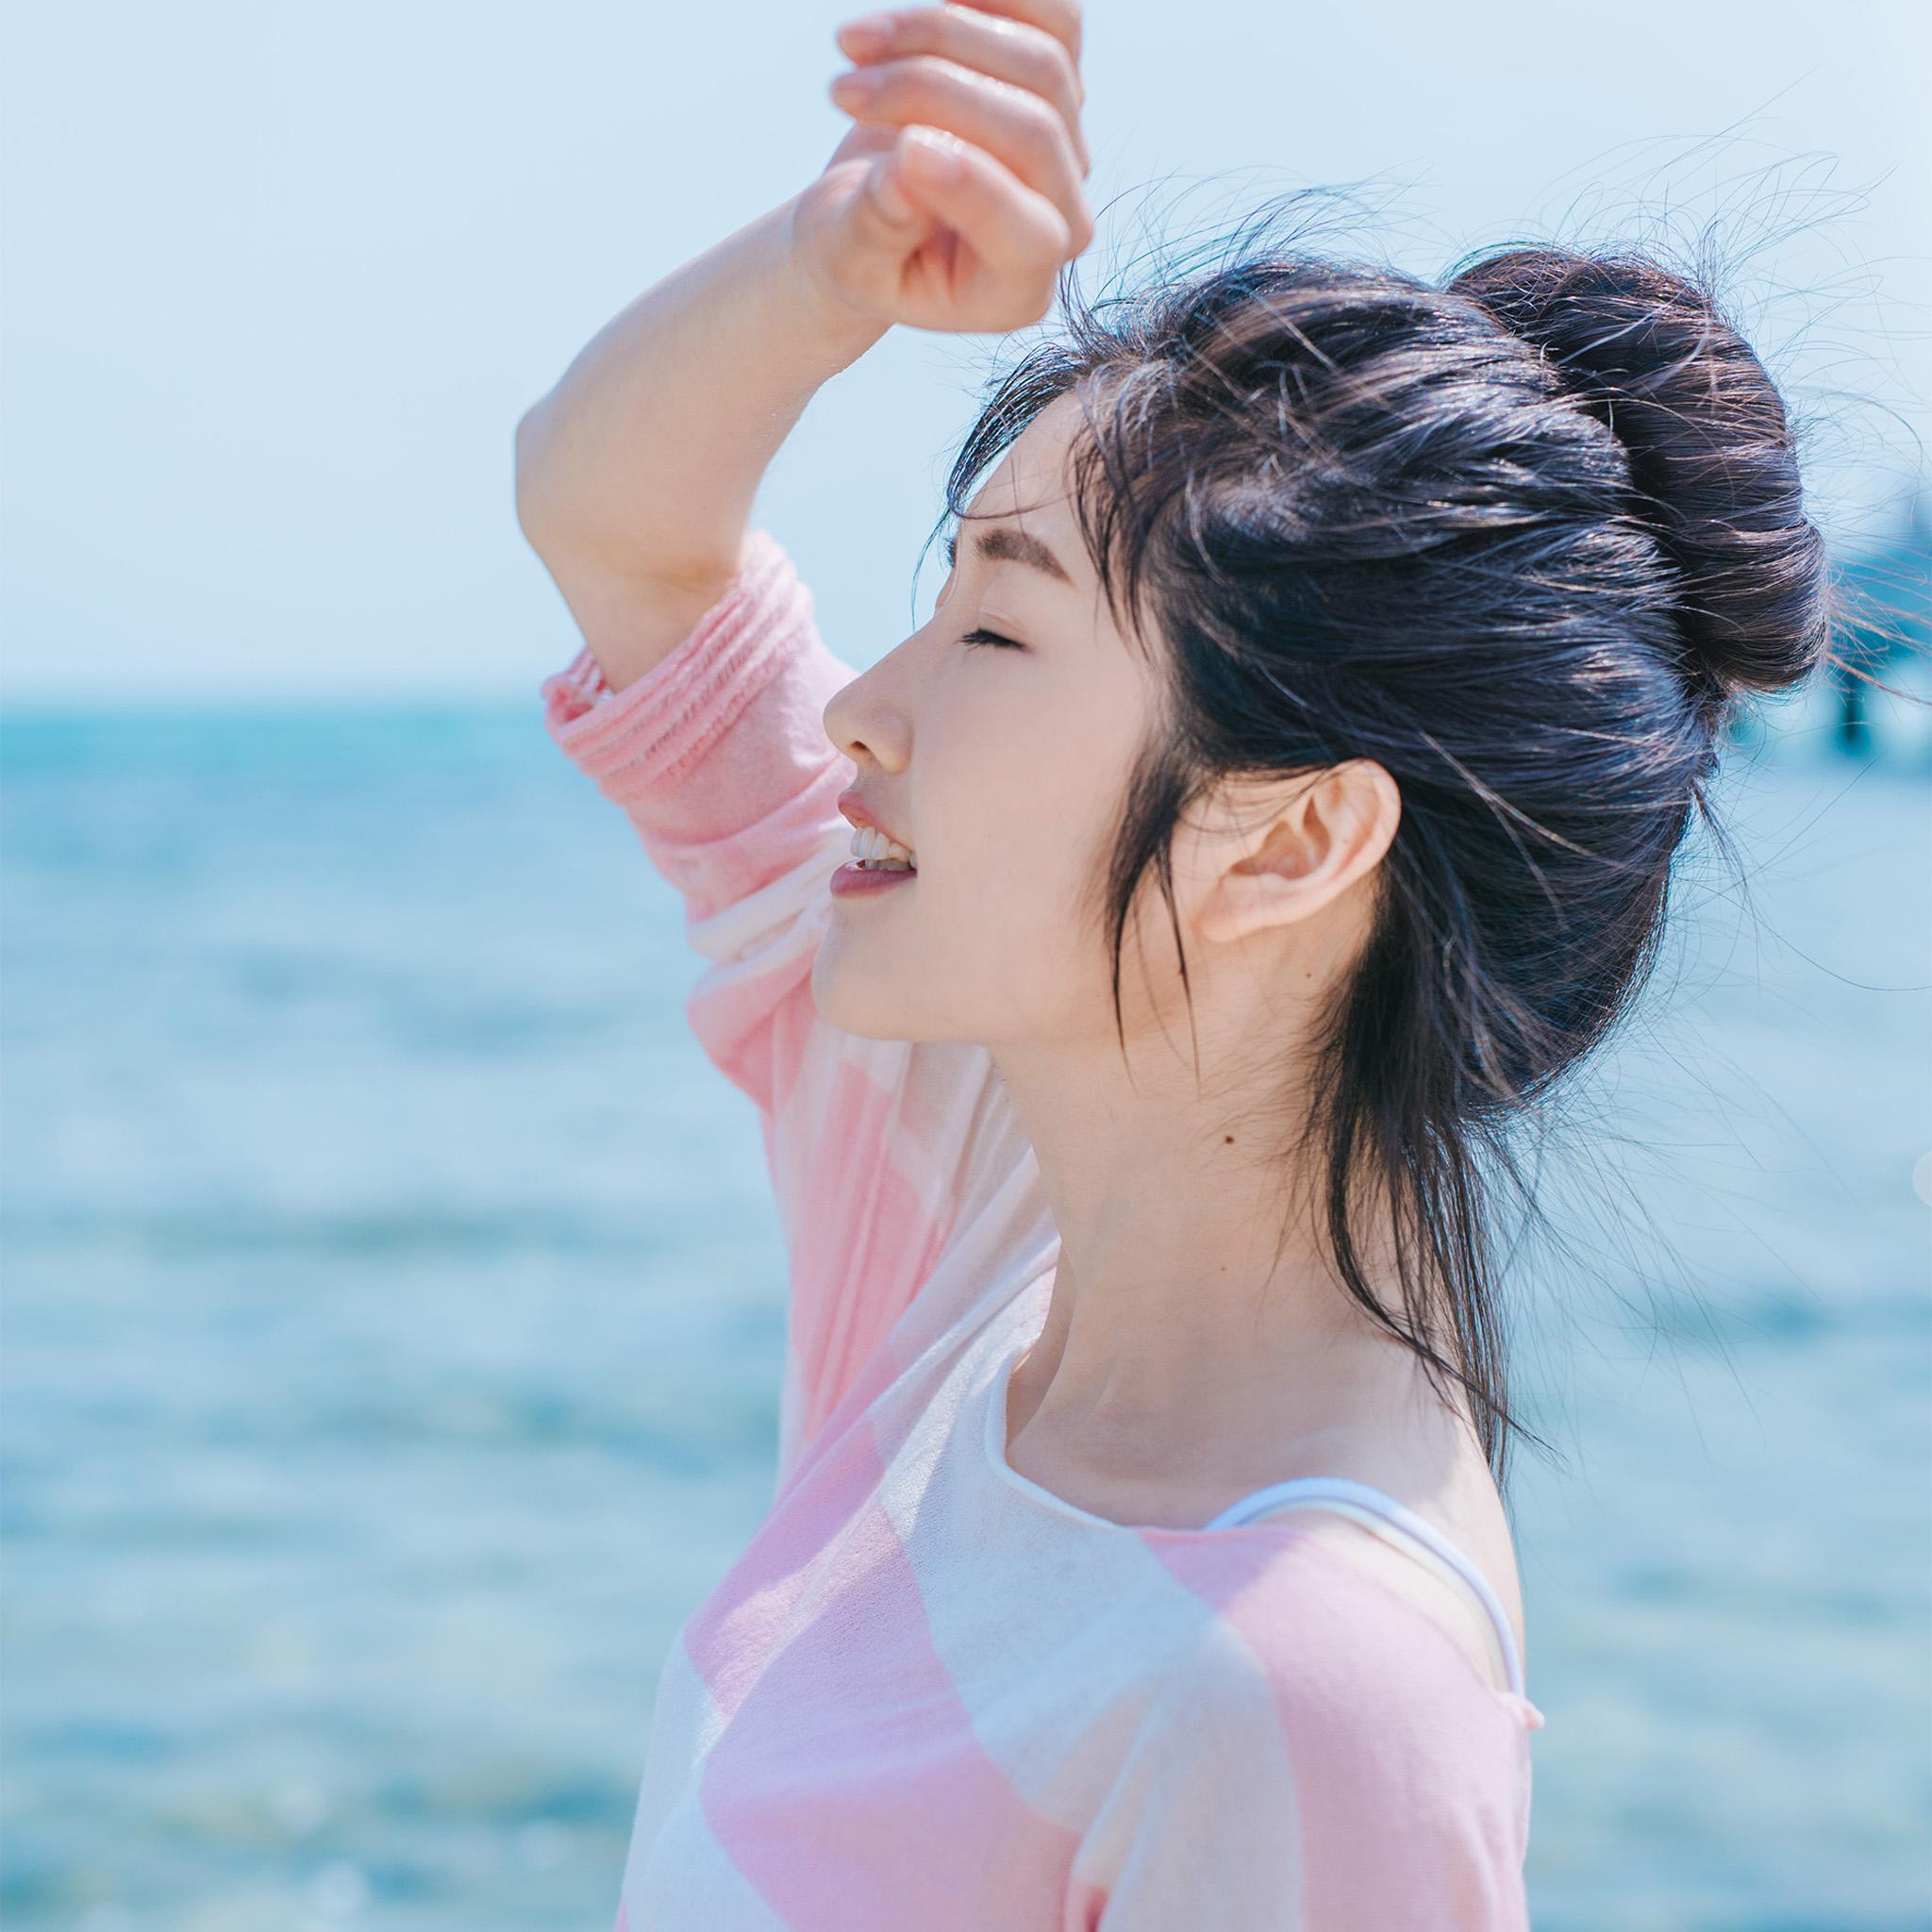person: (577, 44, 1734, 1805)
